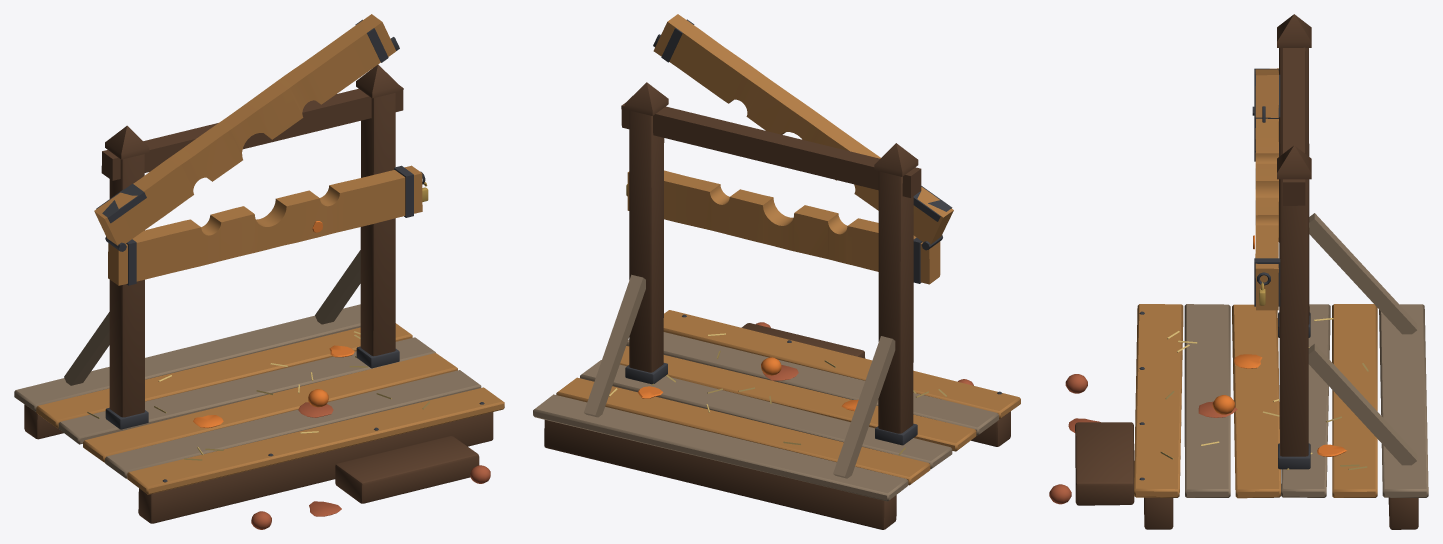
File: deco_stocks.fbx
The picture shows the model from 3 angles, left to right: view 1: azimuth 30°, elevation 25°; view 2: azimuth 150°, elevation 25°; view 3: azimuth 270°, elevation 25°; orthographic projection. The views are drawn at different scales.
Visible parts, largest first — view 1: Stocks_Platform, Stocks_Posts, Stocks_BeamTop, Stocks_BeamLow, Stocks_Refuse; view 2: Stocks_Platform, Stocks_Posts, Stocks_BeamLow, Stocks_BeamTop, Stocks_Refuse; view 3: Stocks_Platform, Stocks_Posts, Stocks_BeamLow, Stocks_Refuse, Stocks_BeamTop.
Boxes of the visible parts, <box> form: Stocks_Platform: <box>14,304,504,523</box>; Stocks_Posts: <box>64,64,403,429</box>; Stocks_BeamTop: <box>94,14,399,245</box>; Stocks_BeamLow: <box>105,165,428,285</box>; Stocks_Refuse: <box>87,221,490,529</box>; Stocks_Platform: <box>533,310,1020,529</box>; Stocks_Posts: <box>584,82,921,478</box>; Stocks_BeamLow: <box>626,170,942,284</box>; Stocks_BeamTop: <box>653,14,953,244</box>; Stocks_Refuse: <box>609,322,973,455</box>; Stocks_Platform: <box>1075,304,1428,529</box>; Stocks_Posts: <box>1277,14,1417,469</box>; Stocks_BeamLow: <box>1252,106,1280,310</box>; Stocks_Refuse: <box>1049,235,1368,504</box>; Stocks_BeamTop: <box>1254,68,1280,122</box>.
Bounding box in the file's own units: 271 × 287 × 232.
